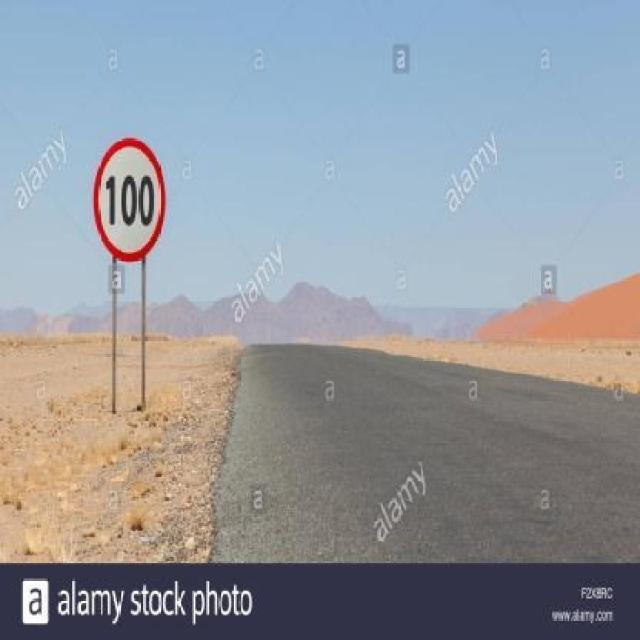forb_speed_over_100: (94, 138, 166, 262)
